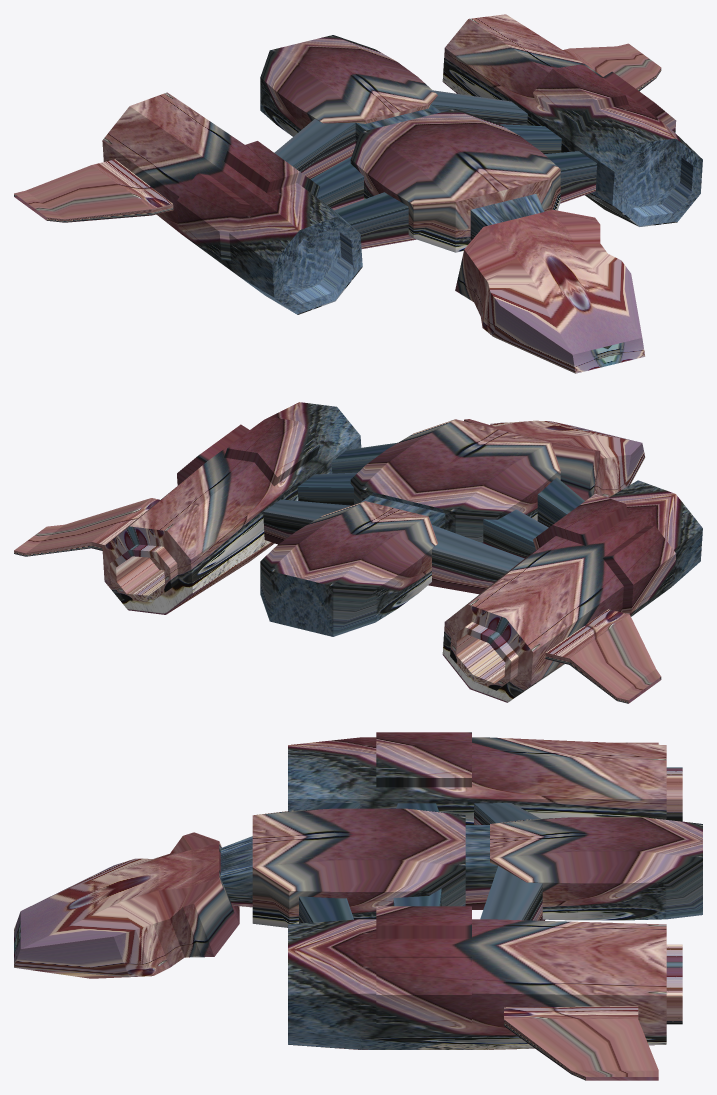
The model's file is m1-ship5.obj.
The picture shows the model from 3 angles, top to bottom: view 1: azimuth 30°, elevation 25°; view 2: azimuth 150°, elevation 25°; view 3: azimuth 270°, elevation 25°; orthographic projection. The views are drawn at different scales.
Visible parts, largest first — view 1: M1_Ship_5_Cube.056; view 2: M1_Ship_5_Cube.056; view 3: M1_Ship_5_Cube.056.
Part boxes in pixels (x1,y1,x2,y2): M1_Ship_5_Cube.056: (14,14,702,373); M1_Ship_5_Cube.056: (14,402,702,703); M1_Ship_5_Cube.056: (14,732,702,1080).
Size of the model in its own units: 49.85 by 9.31 by 43.4.
